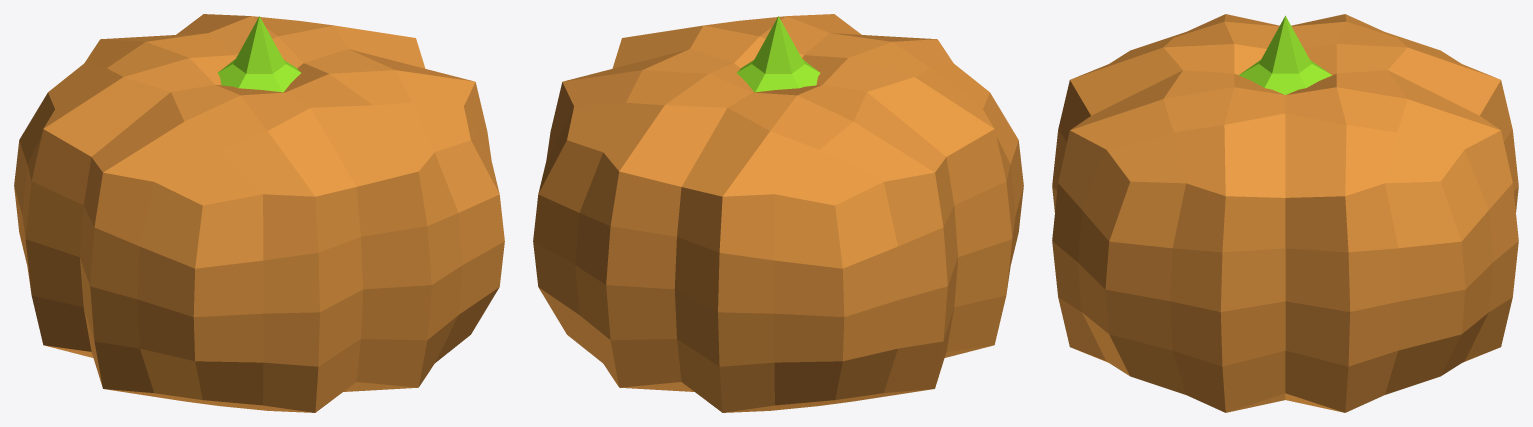
Rendered from pumpkin.glb.
3 views of the same model, side by side, from view 1: azimuth 30°, elevation 25°; view 2: azimuth 150°, elevation 25°; view 3: azimuth 270°, elevation 25° (orthographic).
Parts seen in each view (by area): view 1: Cube; view 2: Cube; view 3: Cube.
Boxes of the visible parts, box(x1,y1,x2,y2) form: Cube: box(14, 14, 504, 412); Cube: box(533, 14, 1023, 412); Cube: box(1052, 14, 1518, 412).
Bounding box in the file's own units: 2.53 × 2.07 × 2.53.
